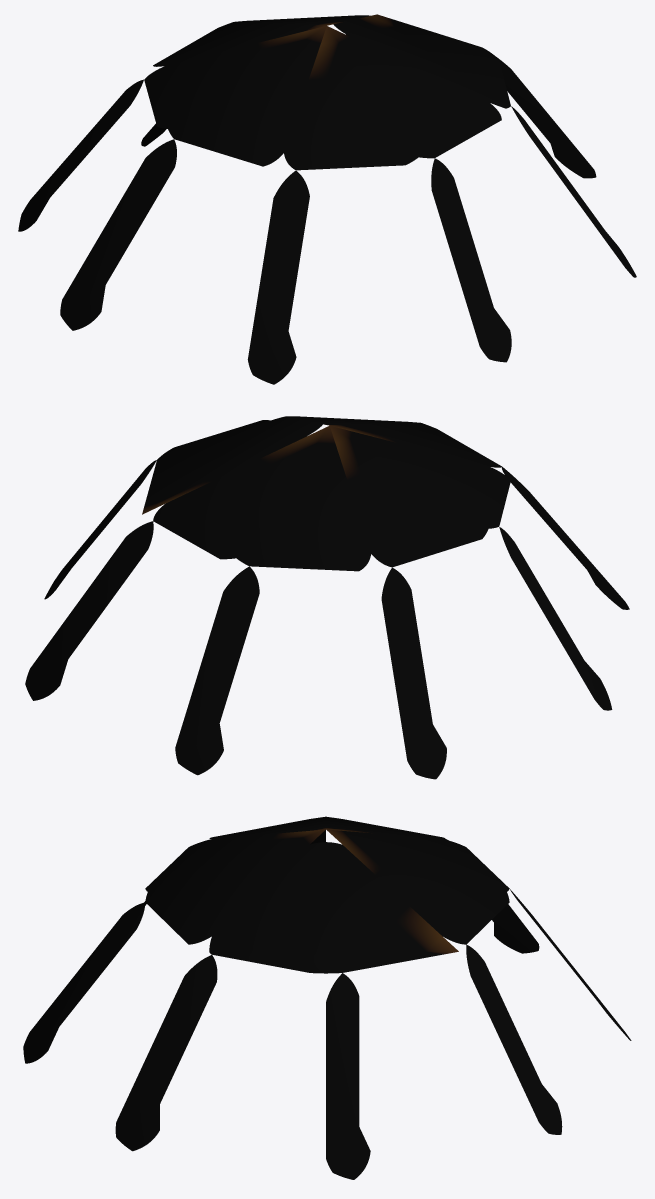
3 renders of one model, top to bottom at view 1: azimuth 30°, elevation 25°; view 2: azimuth 150°, elevation 25°; view 3: azimuth 270°, elevation 25°, orthographic. The views are drawn at different scales.
Parts seen in each view (by area): view 1: T1L1M008_11; view 2: T1L1M008_11; view 3: T1L1M008_11.
Boxes of the visible parts, x1,y1,x2,y2 form: T1L1M008_11: (18,14,636,384); T1L1M008_11: (25,416,629,779); T1L1M008_11: (23,816,631,1179).
Size of the model in its own units: 0.2021 by 0.0791 by 0.2021.
